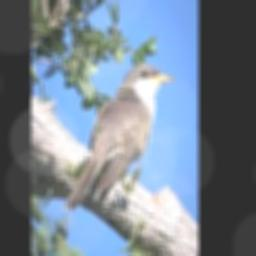Cuckoo: (64, 64, 176, 212)
